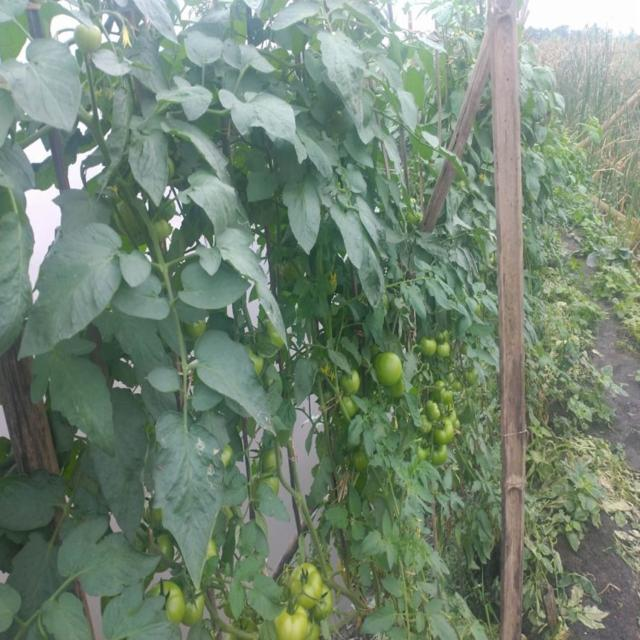tomato: (288, 562, 326, 615), (151, 582, 192, 627), (371, 353, 410, 400), (270, 607, 317, 640), (175, 572, 204, 618), (328, 367, 363, 404), (258, 306, 287, 348), (434, 418, 466, 452), (354, 447, 385, 481), (254, 464, 287, 493), (74, 24, 108, 48), (424, 436, 448, 466), (263, 444, 290, 470), (428, 379, 451, 403), (414, 335, 438, 356), (428, 403, 446, 426), (438, 337, 453, 363), (446, 403, 459, 427)
